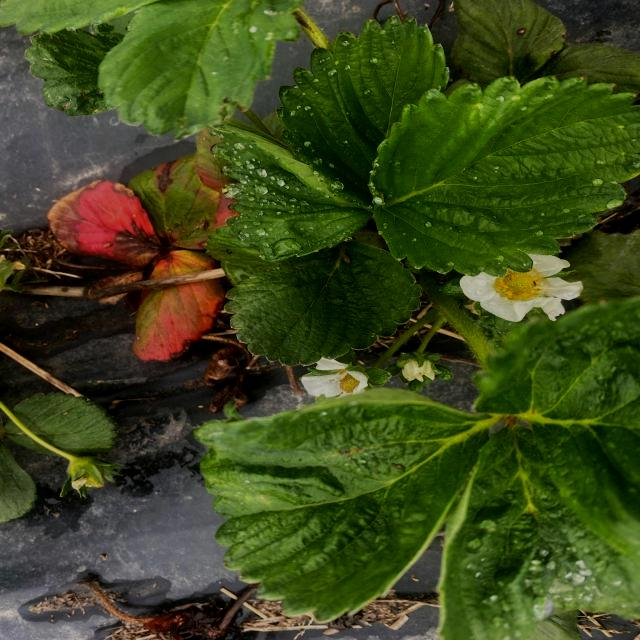flower: (448, 248, 594, 326), (290, 350, 373, 404)
